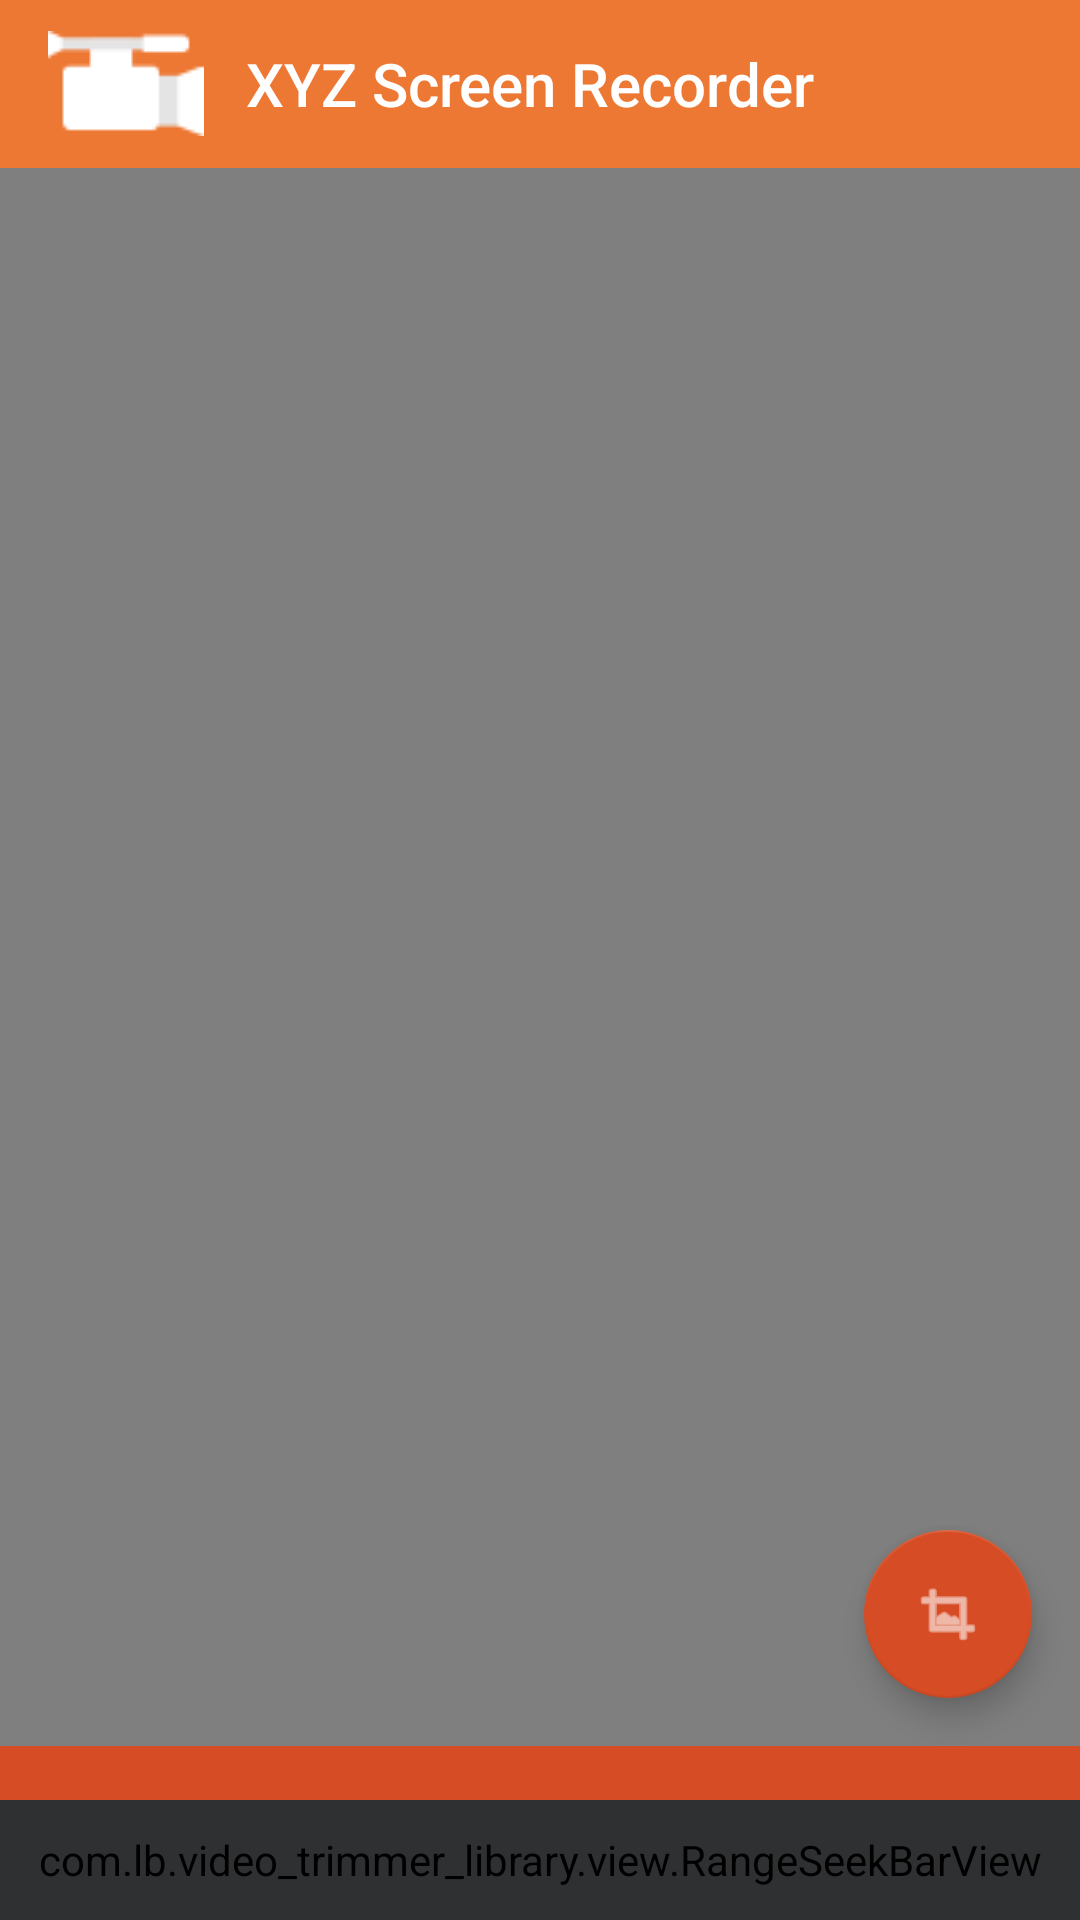

Icons on this 1080 x 1920 Android screen, each with its box as (x1, y1, x2, y2):
crop: (864, 1530, 1032, 1698)
